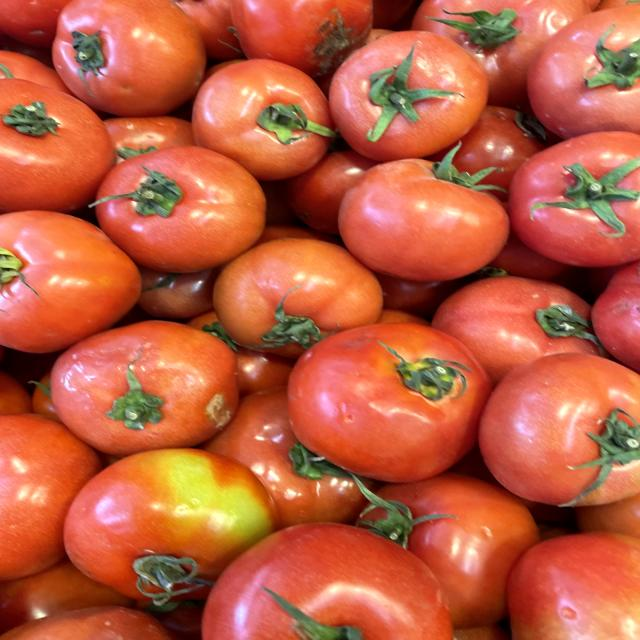tomato: (53, 430, 291, 612), (282, 305, 502, 486), (34, 307, 258, 458), (325, 141, 519, 291), (88, 139, 275, 276), (322, 28, 507, 155), (40, 0, 219, 115)
